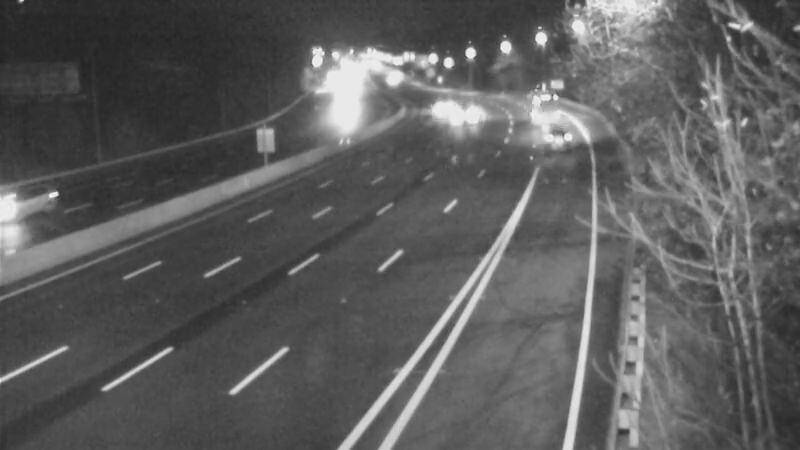vehicle: (1, 164, 71, 244), (513, 80, 563, 130), (411, 86, 461, 136), (441, 91, 491, 141), (525, 109, 575, 159)
